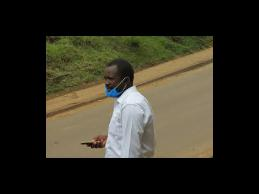mask_weared_incorrect: (104, 71, 118, 98)
